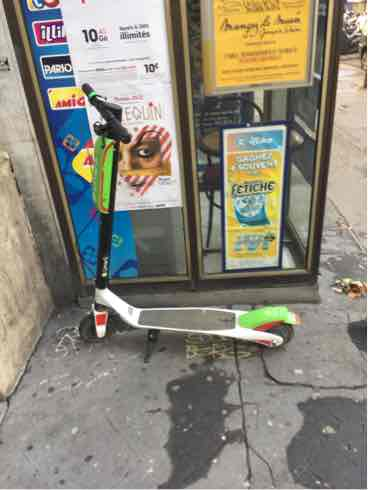scooter: (69, 73, 302, 358)
